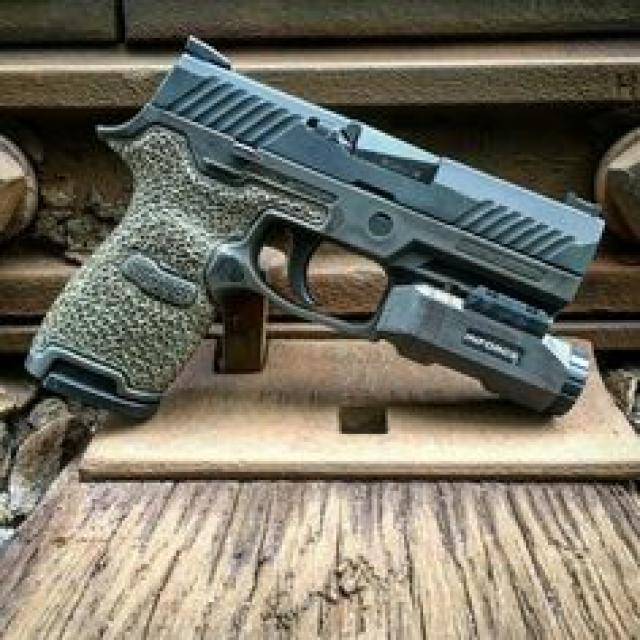semi automatic: (22, 26, 619, 492)
